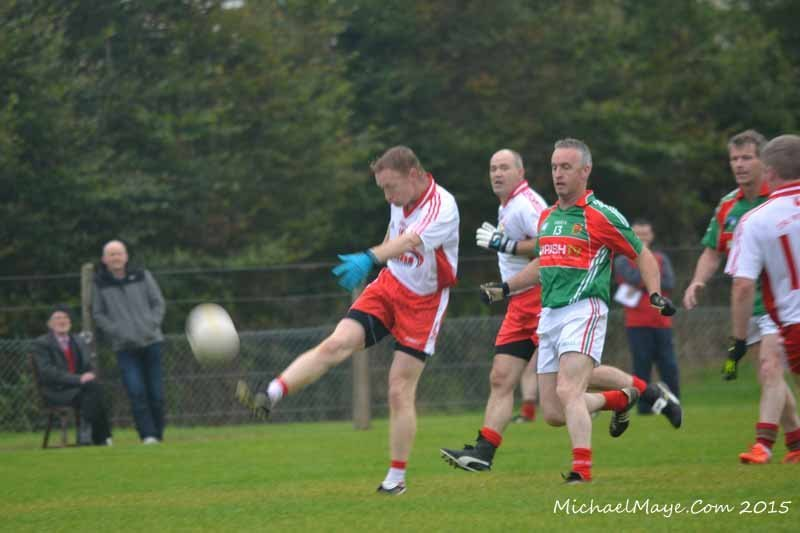ball: (180, 310, 236, 363)
player: (522, 135, 651, 470), (350, 138, 459, 473), (473, 152, 568, 433), (717, 127, 794, 438)
